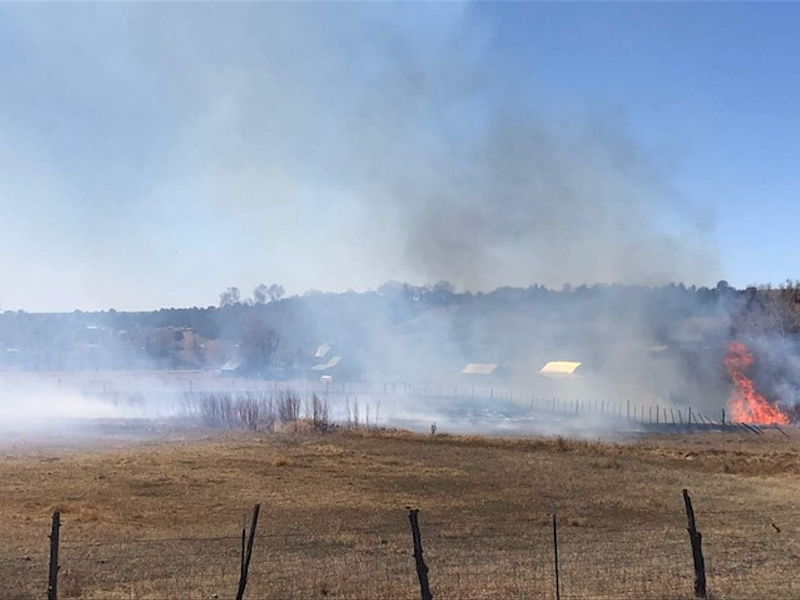smoke: (339, 122, 676, 404)
